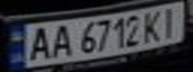1: (109, 15, 130, 49)
2: (124, 12, 145, 47)
6: (75, 18, 96, 54)
7: (93, 16, 115, 52)
A: (24, 25, 54, 62), (48, 22, 75, 58)
I: (157, 5, 184, 39)
K: (139, 8, 166, 43)
